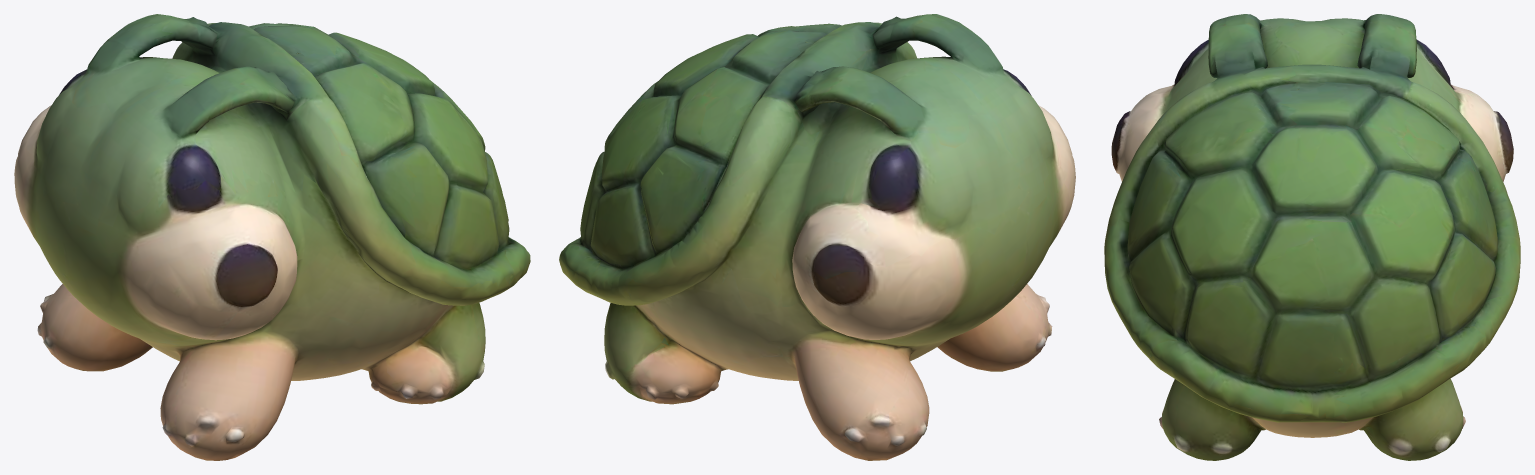
File: turtlebag.glb
3 renders of one model, left to right at view 1: azimuth 30°, elevation 25°; view 2: azimuth 150°, elevation 25°; view 3: azimuth 270°, elevation 25°, orthographic. The views are drawn at different scales.
Parts seen in each view (by area): view 1: tripo_node_711fb265-8582-4c22-a0ff-c833c1e6c03c; view 2: tripo_node_711fb265-8582-4c22-a0ff-c833c1e6c03c; view 3: tripo_node_711fb265-8582-4c22-a0ff-c833c1e6c03c.
Boxes of the visible parts, <box> form: tripo_node_711fb265-8582-4c22-a0ff-c833c1e6c03c: <box>14,14,530,460</box>; tripo_node_711fb265-8582-4c22-a0ff-c833c1e6c03c: <box>559,14,1075,460</box>; tripo_node_711fb265-8582-4c22-a0ff-c833c1e6c03c: <box>1104,14,1520,460</box>.
Bounding box in the file's own units: 1 × 0.7802 × 0.8607.
Materials: 1 (1 with a texture image).
